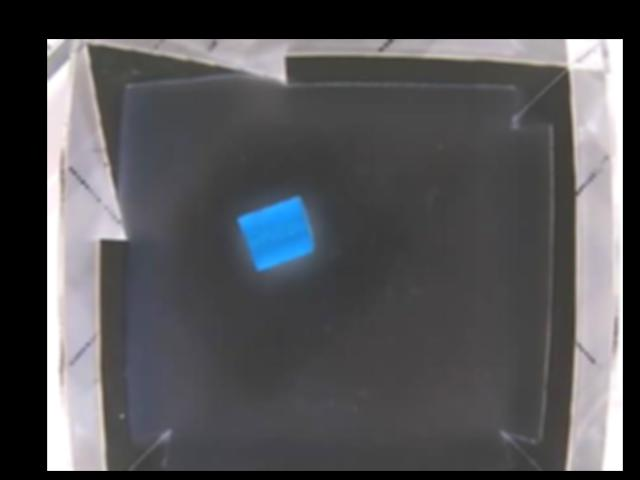Carrot: (236, 194, 317, 271)
